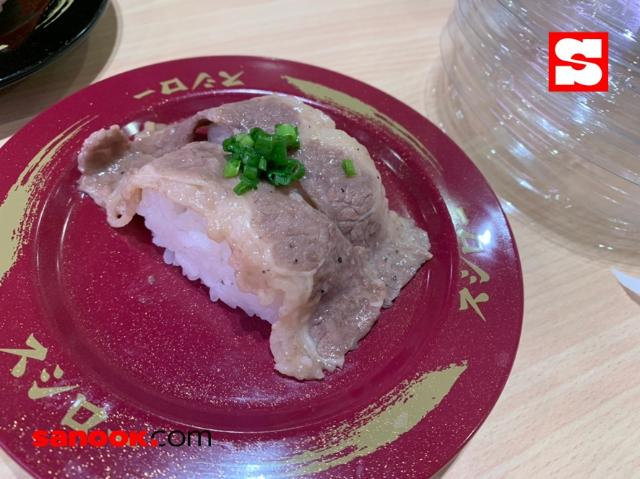janback: (0, 4, 112, 72)
janred: (28, 91, 506, 479)
